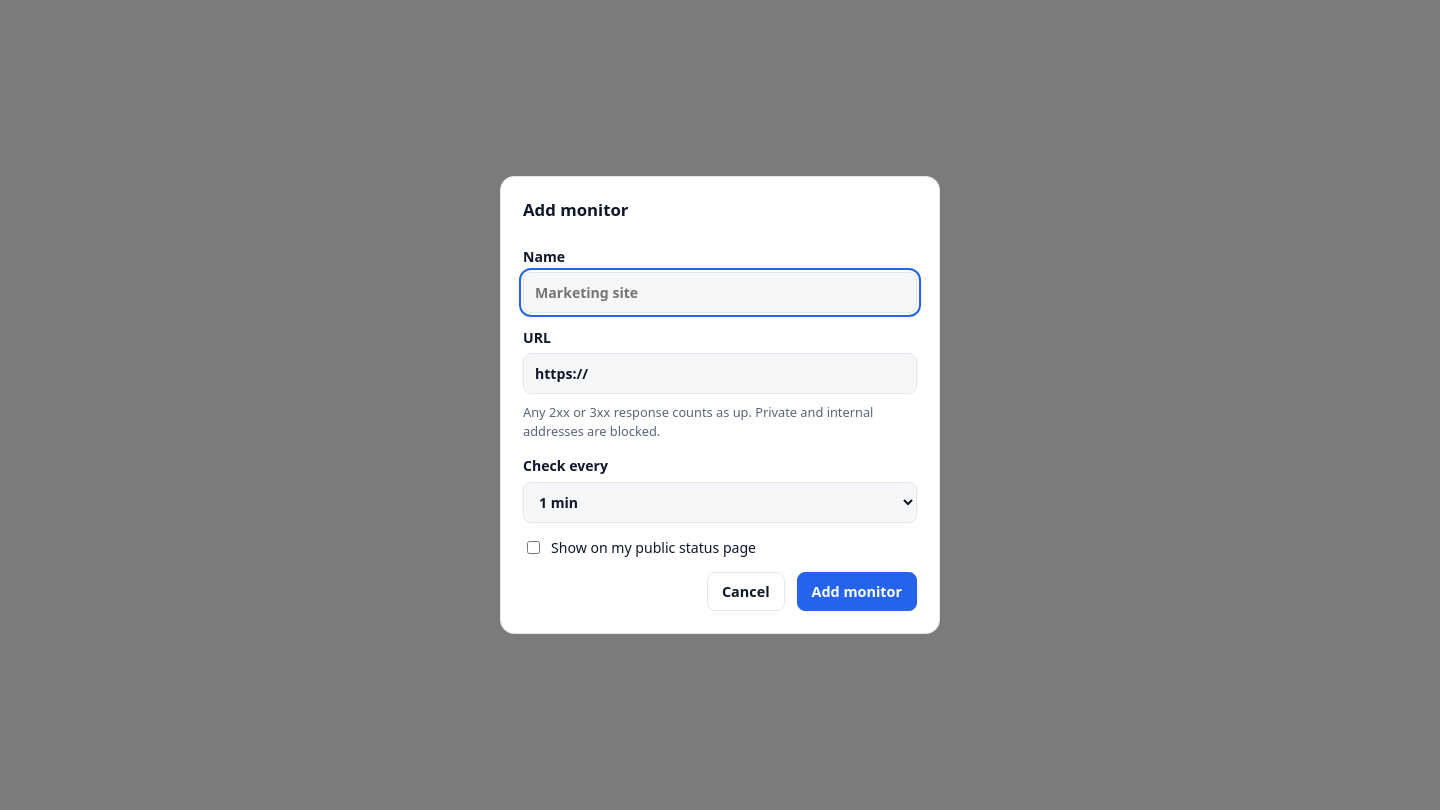
Test case: MonitorDialog (create) › shows the server error and lets the user try again
Type "Internal" into the field labelled "Name". click: (720, 292)
box: [523,272,917,313]
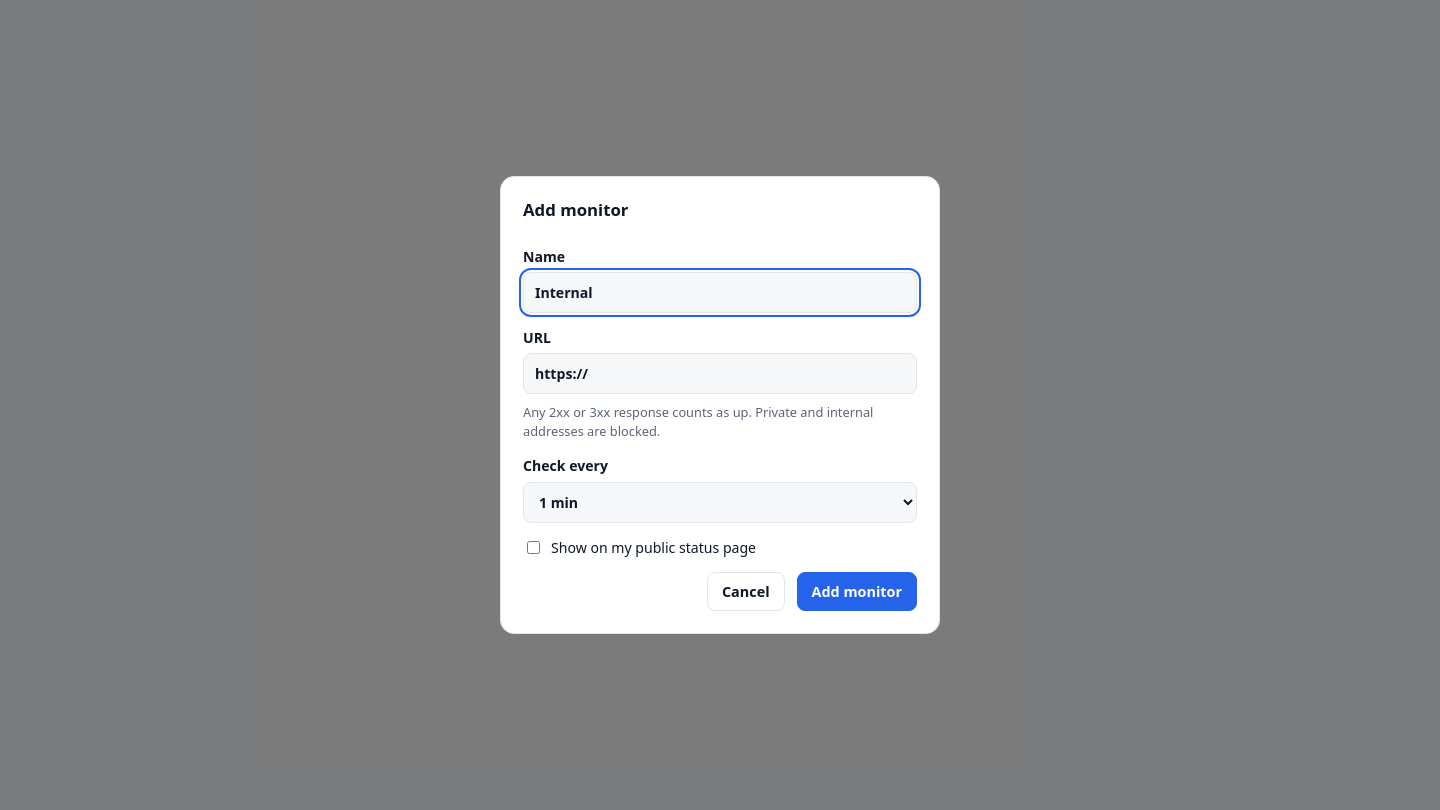
Replace the text in the field labelled "URL" with "http://10.0.0.5/". click: (720, 374)
box: [523,353,917,394]
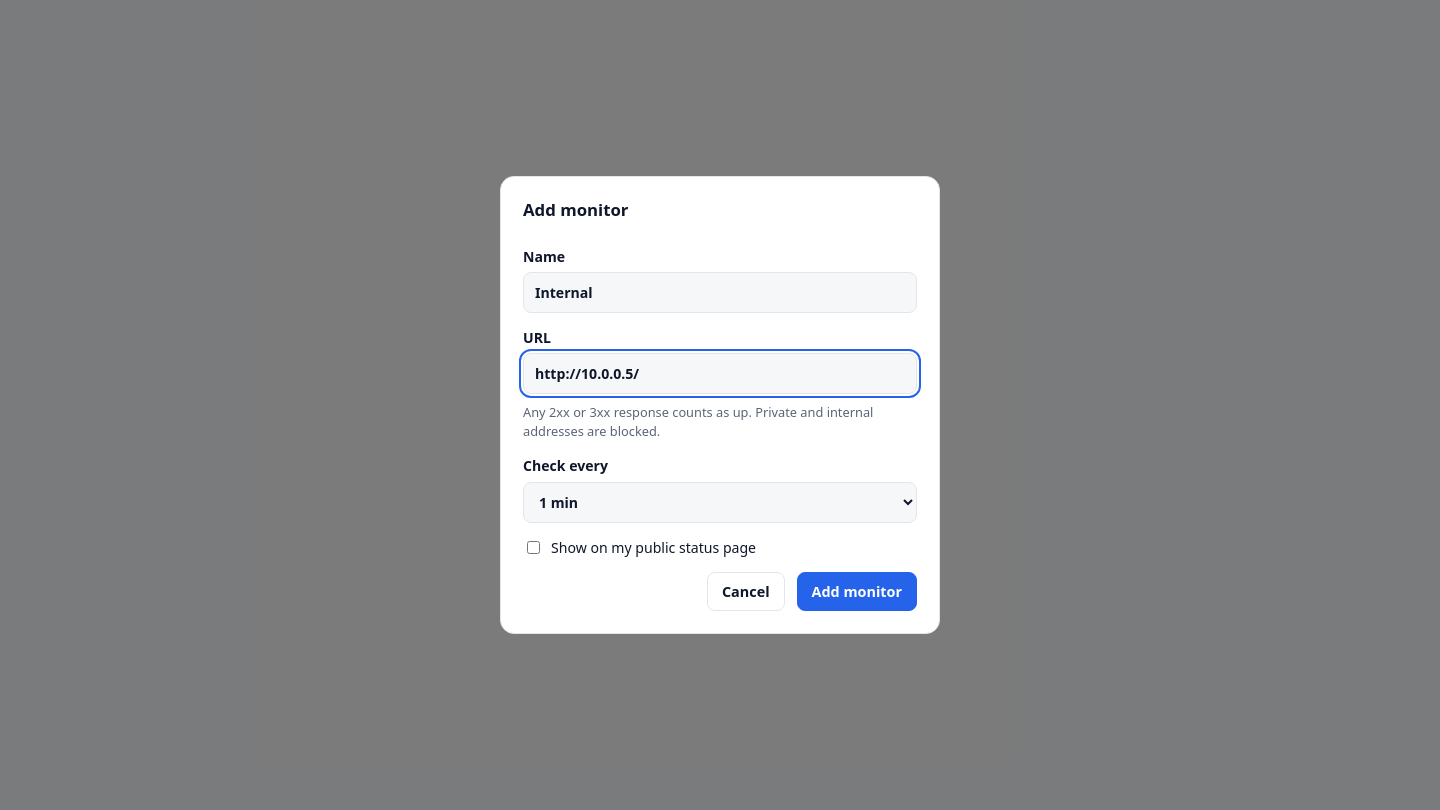
Click the button "Add monitor". click: (857, 592)
box: [796,572,917,611]
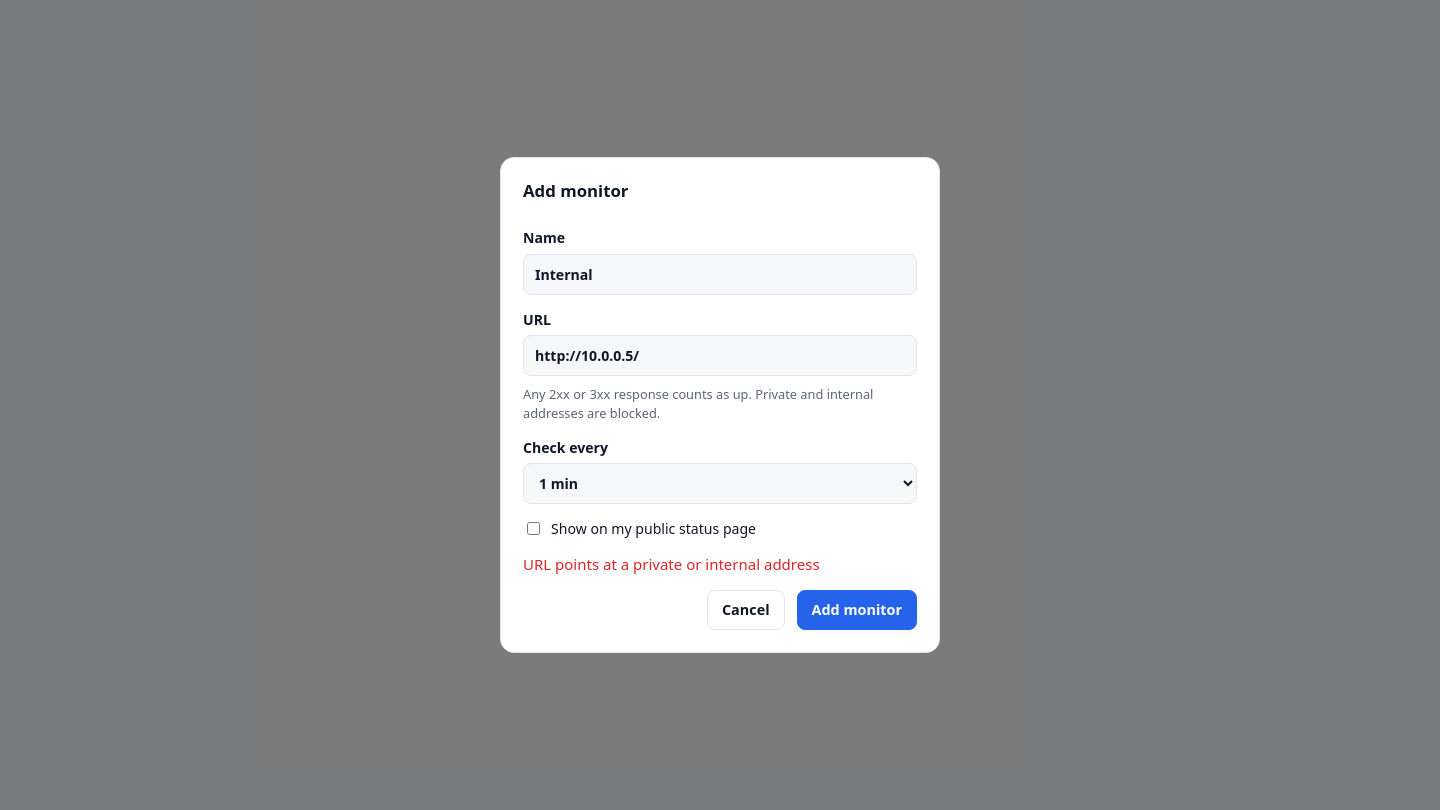
Check: the button "Add monitor" is enabled, box [796,590,917,630]
Check: the message reads "URL points at a private or internal address", box [523,554,820,574]
